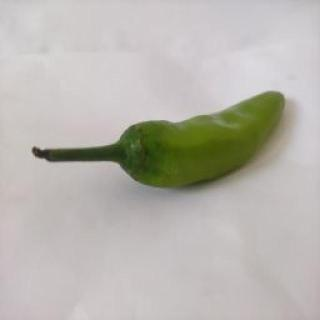Cabai Hijau: (29, 88, 291, 194)
